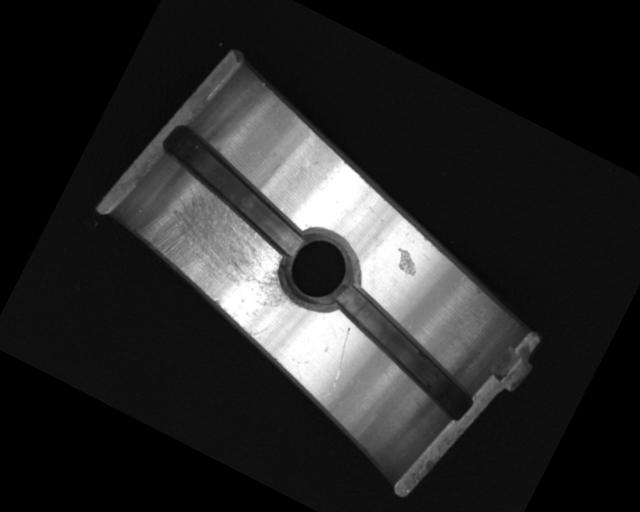bruise: (388, 246, 424, 280)
gap: (314, 280, 495, 422), (144, 119, 326, 258)
hole: (268, 217, 370, 323)
nick: (319, 325, 362, 388)
scratch: (120, 161, 321, 341)
